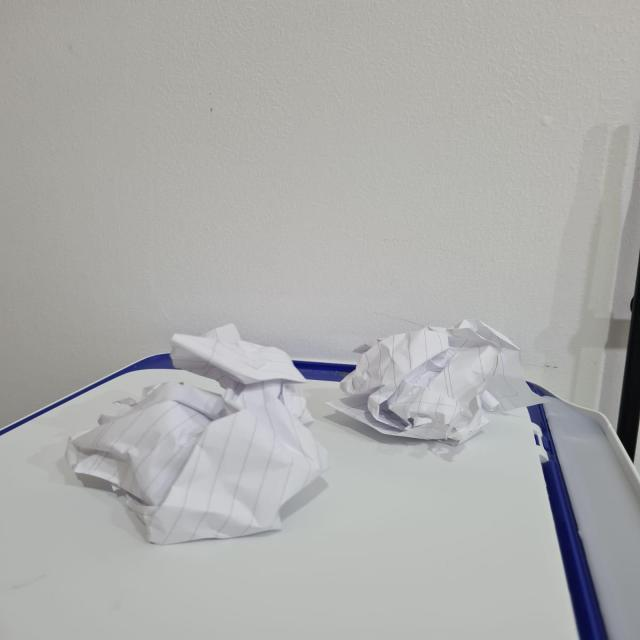cardboard paper: (67, 326, 325, 544), (329, 319, 540, 441)
